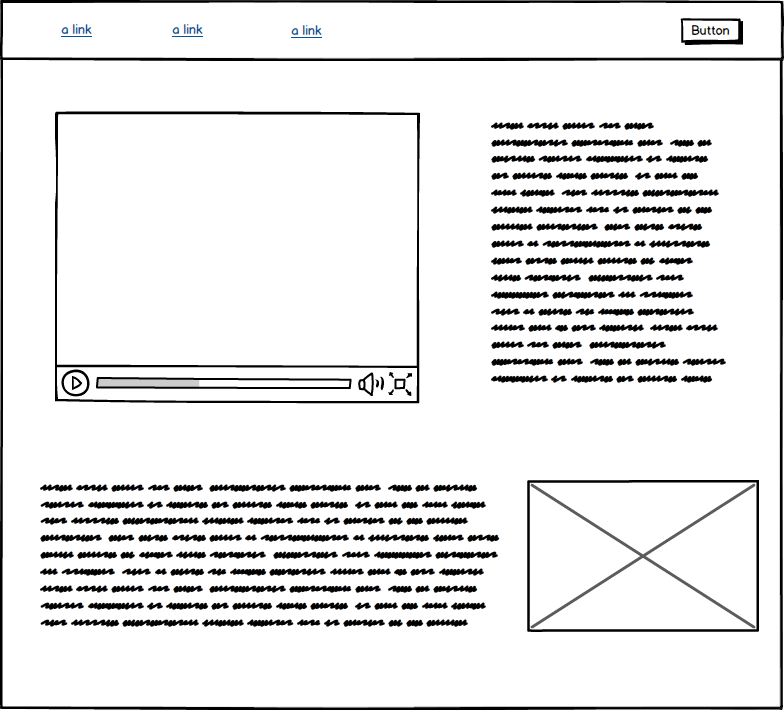button: (676, 13, 747, 47)
image: (525, 475, 761, 632)
navlink: (162, 16, 215, 46), (278, 19, 327, 46), (55, 16, 99, 45)
p: (40, 479, 501, 633), (484, 114, 730, 391)
video: (49, 105, 423, 408)
